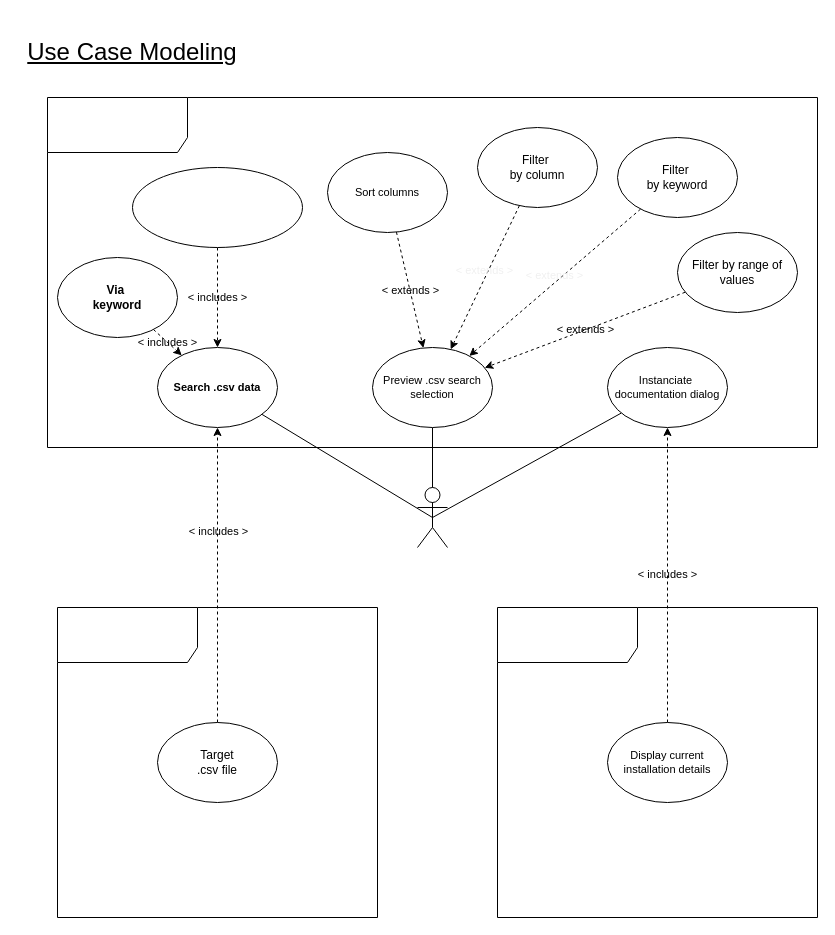
This 835x935 diagram has some shape labels left out. The shapes that lost their labels are listed below. From the top down, each one's box as (x1, y1, x2, y2) in pixels, then its label:
(132, 166, 302, 248): Via [ column|row] : keyword
(46, 96, 818, 448): Search QMainWindow
(416, 486, 448, 548): User
(56, 606, 378, 918): Browse QDialog
(496, 606, 818, 918): About QDialog
